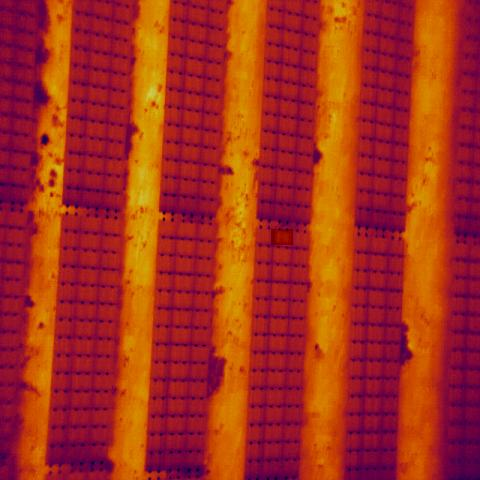fault: (271, 229, 293, 245)
